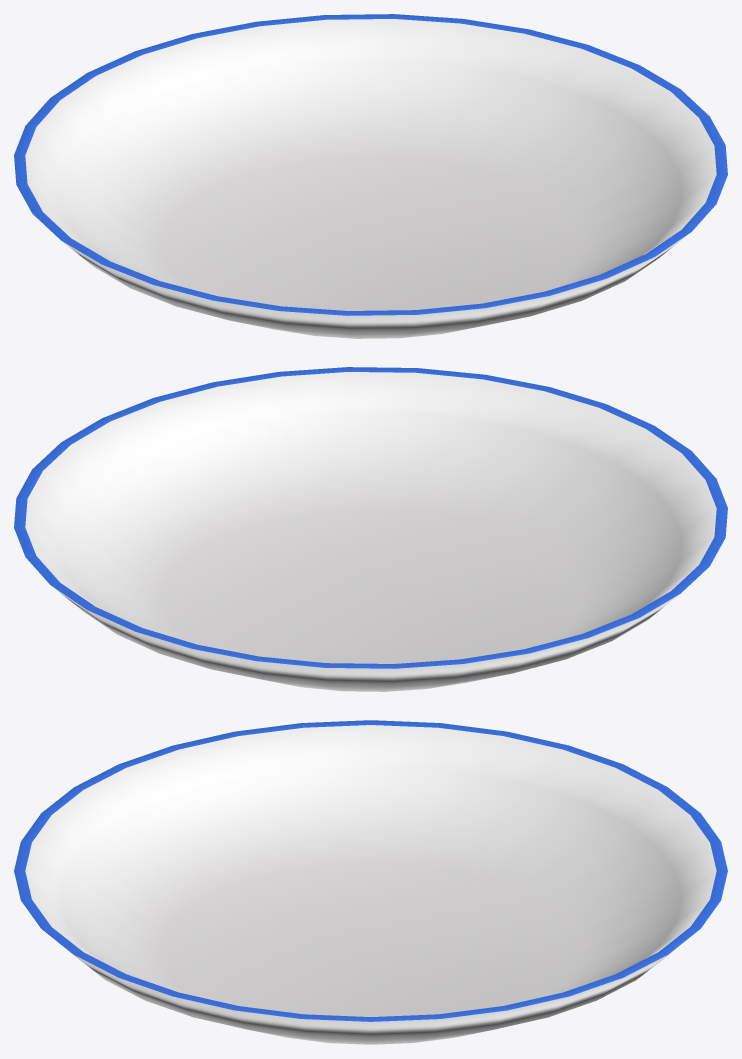
Rendered from PlateDeep.fbx.
3 renders of one model, top to bottom at view 1: azimuth 30°, elevation 25°; view 2: azimuth 150°, elevation 25°; view 3: azimuth 270°, elevation 25°, orthographic.
Parts seen in each view (by area): view 1: PlatoHondo; view 2: PlatoHondo; view 3: PlatoHondo.
Boxes of the visible parts, <box> form: PlatoHondo: <box>14,14,727,338</box>; PlatoHondo: <box>14,367,727,691</box>; PlatoHondo: <box>14,720,727,1044</box>.
Bounding box in the file's own units: 200 × 25.37 × 200.
